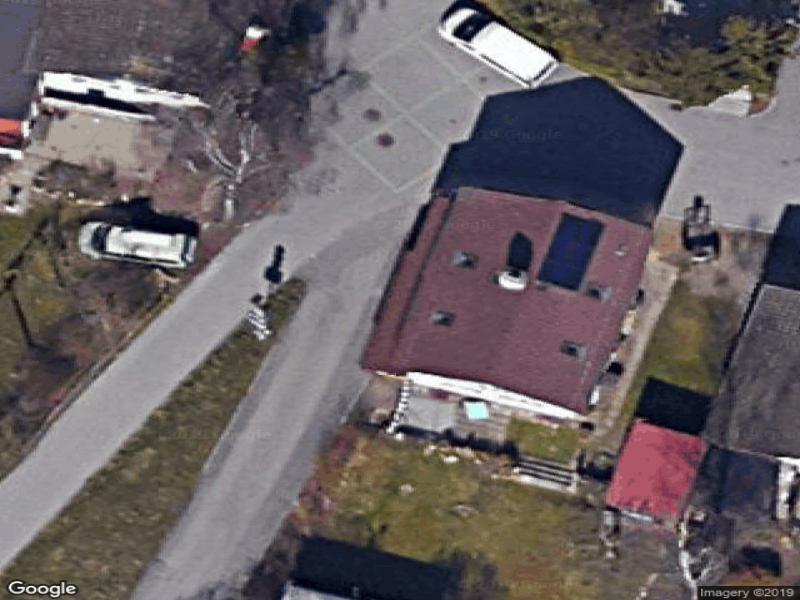pv: (538, 213, 604, 293)
